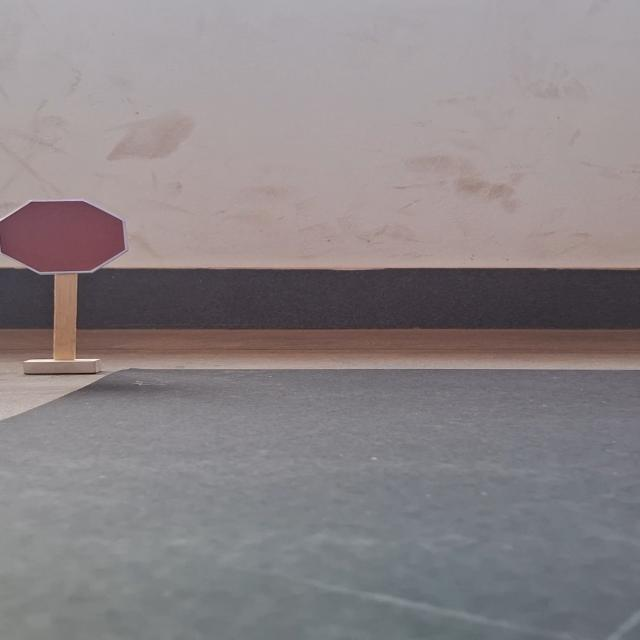Stop: (0, 200, 131, 276)
